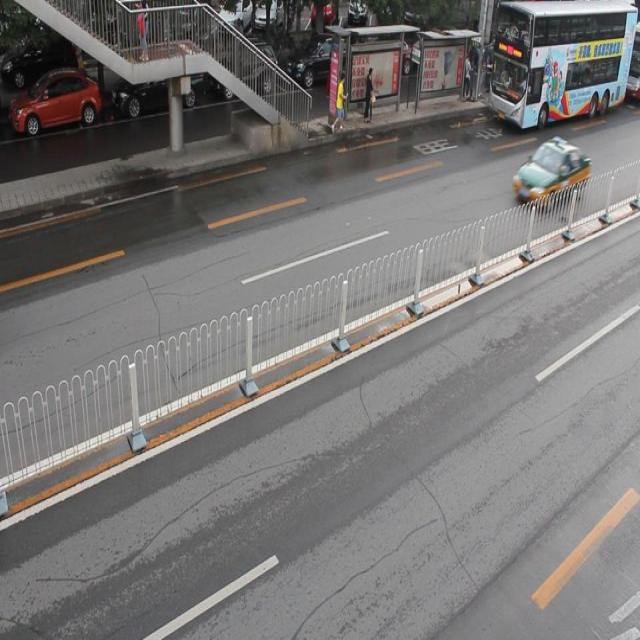car: (13, 70, 102, 137), (114, 52, 203, 117), (513, 135, 588, 208), (216, 39, 280, 103), (286, 35, 355, 89)
van: (488, 1, 640, 130)
